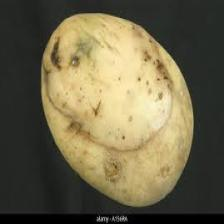Damaged potato: (38, 10, 196, 210)
